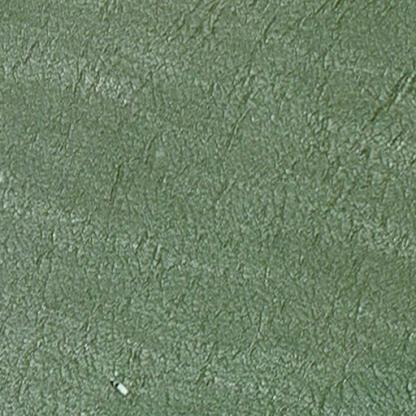ship: (102, 368, 132, 399)
